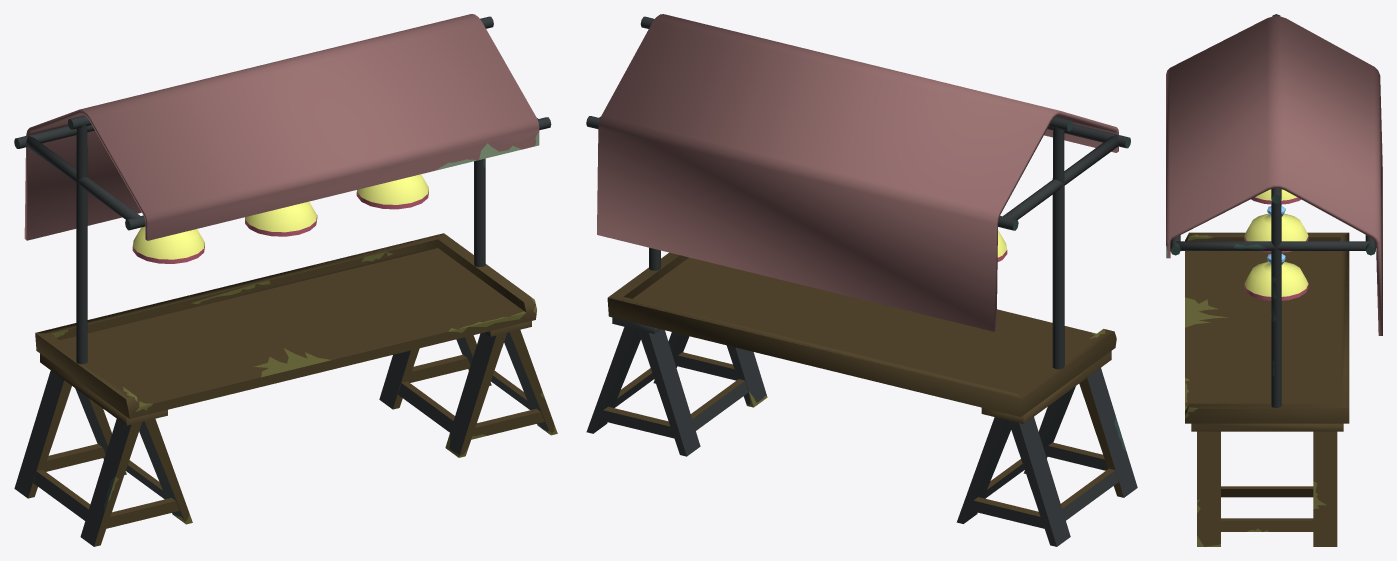
Rendered from Table1.fbx.
3 renders of one model, left to right at view 1: azimuth 30°, elevation 25°; view 2: azimuth 150°, elevation 25°; view 3: azimuth 270°, elevation 25°, orthographic. The views are drawn at different scales.
Parts seen in each view (by area): view 1: Circle.011; view 2: Circle.011; view 3: Circle.011.
Boxes of the visible parts, x1=… form: Circle.011: x1=14, y1=14, x2=557, y2=546; Circle.011: x1=586, y1=14, x2=1137, y2=546; Circle.011: x1=1166, y1=14, x2=1382, y2=546.
Size of the model in its own units: 2.48 by 2.01 by 1.14.
